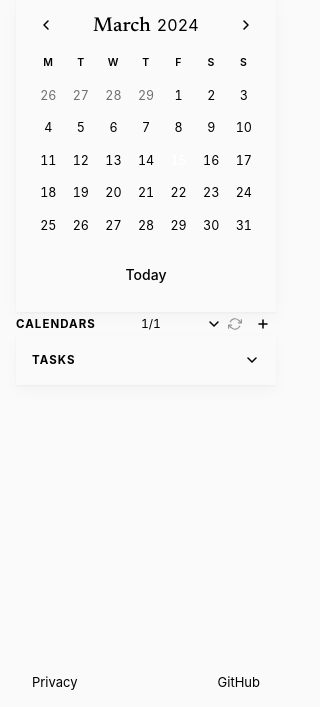
Sidebar › reveals the calendars list when requested
Expected: the text "Default Calendar" is not shown
Step 1. Click the button "Calendars 1/1" → x=119, y=324, box left=16, top=312, right=222, bottom=336
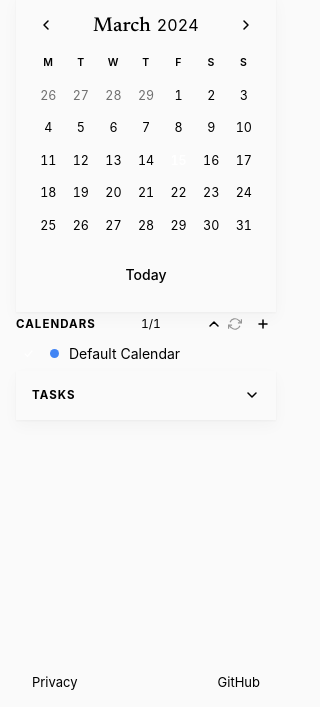
Expected: the button "Calendars 1/1" is expanded, left=16, top=312, right=222, bottom=336
Expected: the text "Default Calendar" is shown, left=69, top=345, right=180, bottom=362
